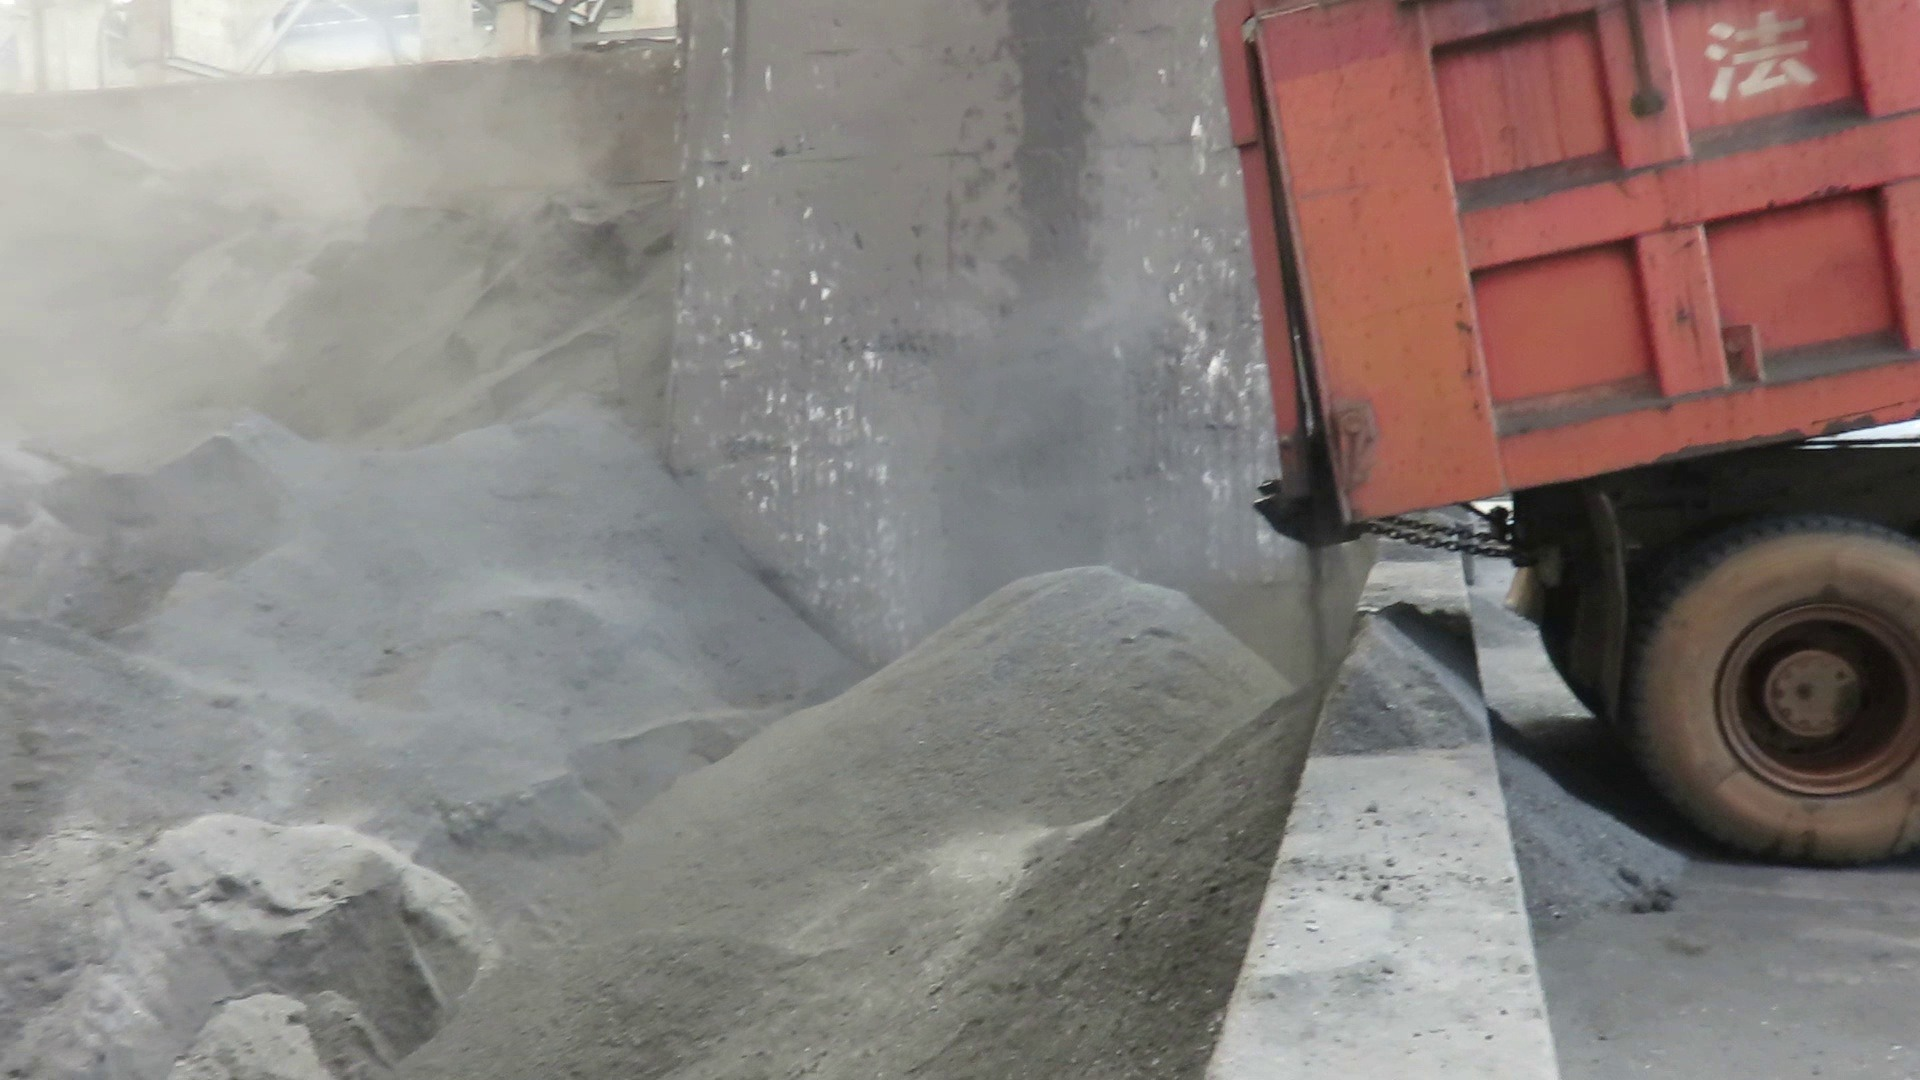dust: (7, 29, 1237, 738)
truck: (1232, 0, 1919, 898)
